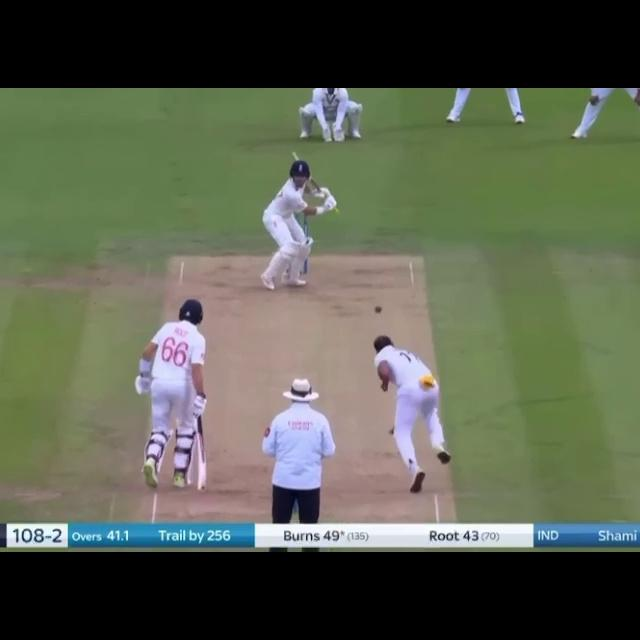umpire: (256, 374, 334, 527)
